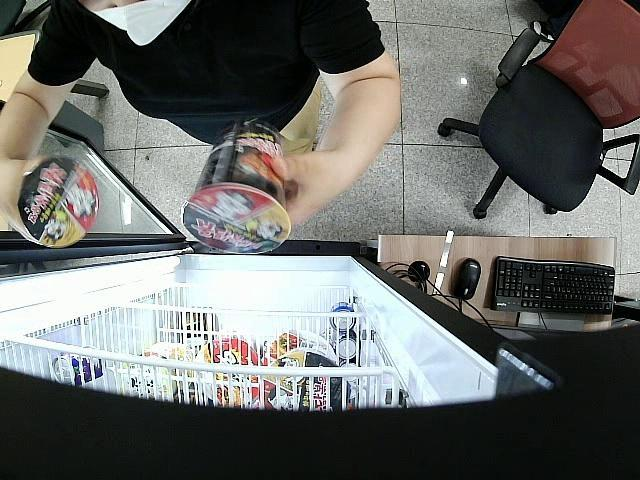08_buldak_S: (186, 126, 292, 254), (20, 158, 99, 248)
